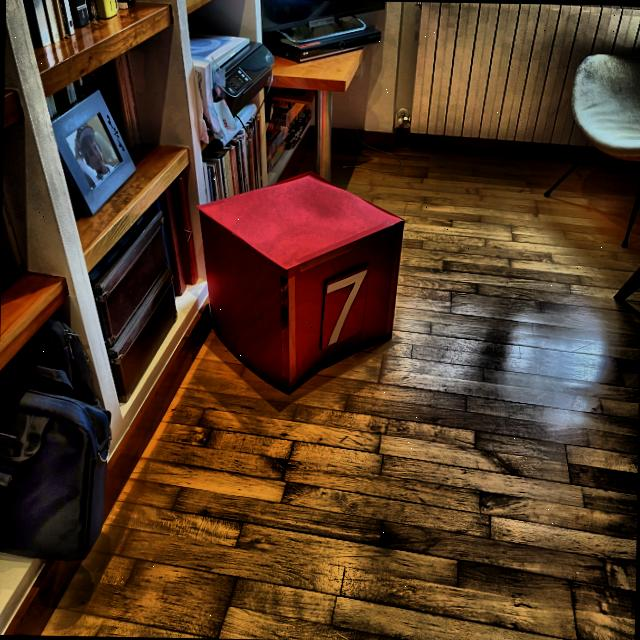red box: (196, 172, 404, 398)
seven: (322, 268, 366, 348)
